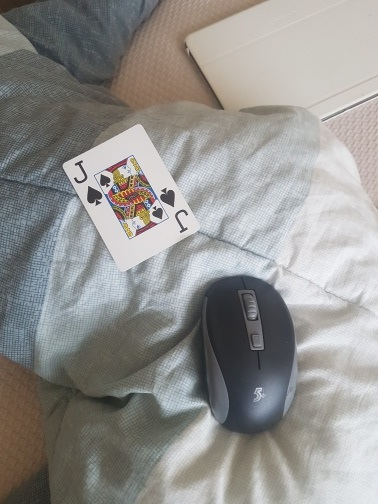jack: (63, 125, 202, 268)
